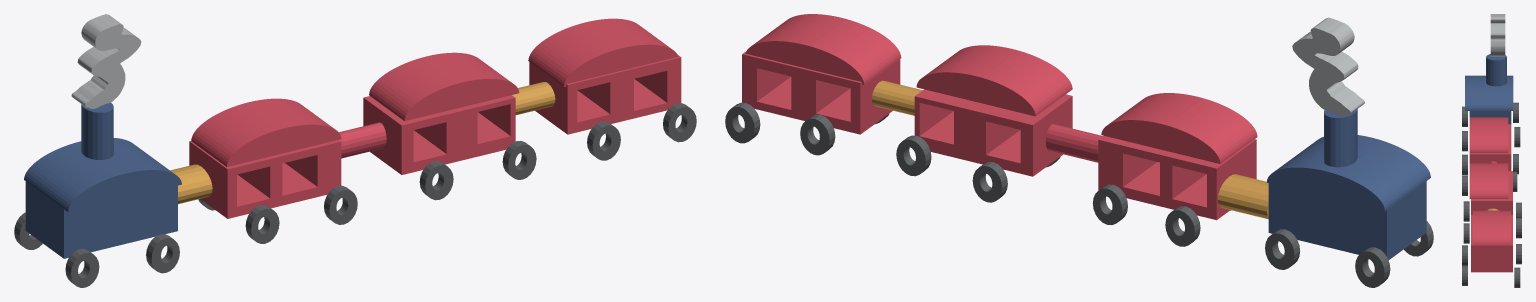
File: PRO-C150.glb
3 views of the same model, side by side, from view 1: azimuth 30°, elevation 25°; view 2: azimuth 150°, elevation 25°; view 3: azimuth 270°, elevation 25° (orthographic). The views are drawn at different scales.
Visible parts, largest first — view 1: Mesh_Mesh_head_geo.001_lambert2SG.001; view 2: Mesh_Mesh_head_geo.001_lambert2SG.001; view 3: Mesh_Mesh_head_geo.001_lambert2SG.001.
Boxes of the visible parts, x1,y1,x2,y2 form: Mesh_Mesh_head_geo.001_lambert2SG.001: (14, 14, 696, 287); Mesh_Mesh_head_geo.001_lambert2SG.001: (725, 14, 1433, 287); Mesh_Mesh_head_geo.001_lambert2SG.001: (1462, 14, 1521, 287).
Bounding box in the file's own units: 267 × 94.67 × 40.
